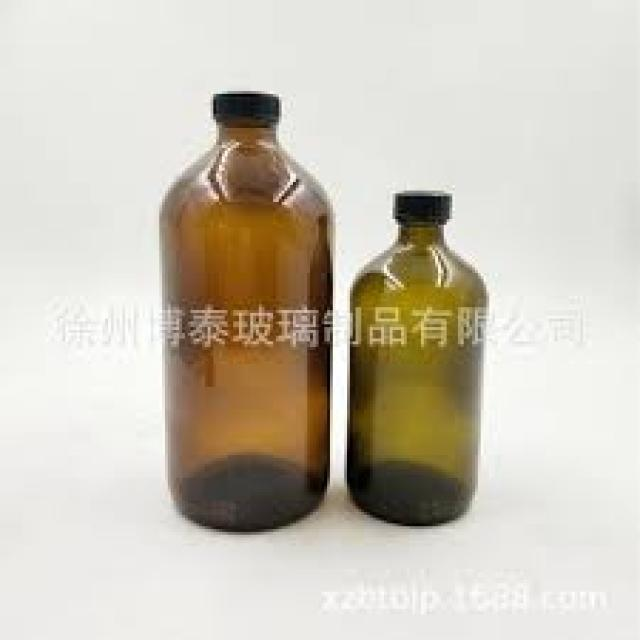glass: (157, 120, 327, 529), (342, 222, 484, 520)
metal: (210, 91, 276, 119), (393, 188, 447, 216)
